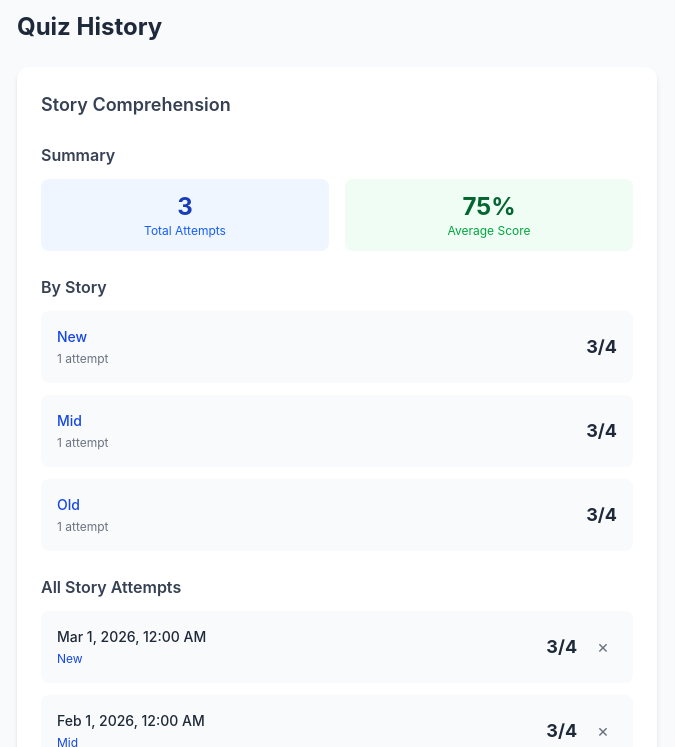
Test: HistoryPage Story Comprehension block › clicking Undo within the window restores a non-latest entry at its date-sorted position
Note: Delete the MIDDLE (non-latest) entry.
Click the button named "Delete attempt for Mid" at (603, 731), box [589,718,617,744]
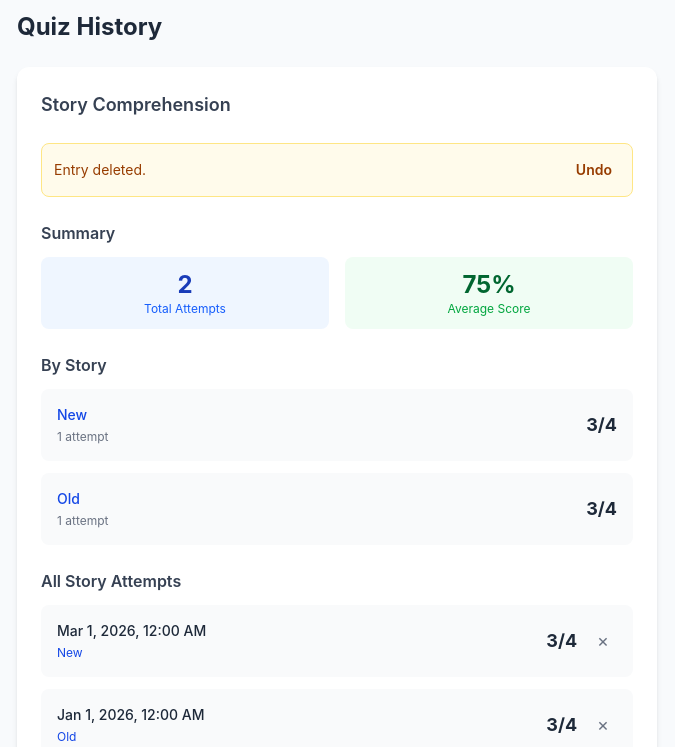
Note: Undo within the 7s window.
Click the button "Undo" at (594, 170), box [568,156,620,184]
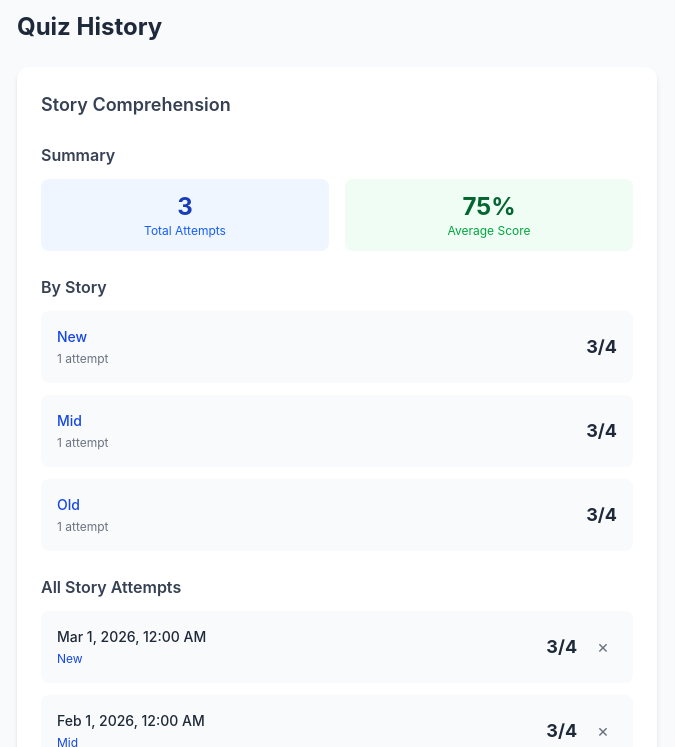
Check: the message with test id "undo-banner" is gone
